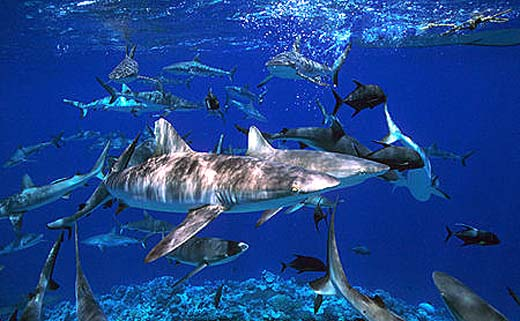Carcharhinus_amblyrhynchos: (39, 77, 480, 321)
